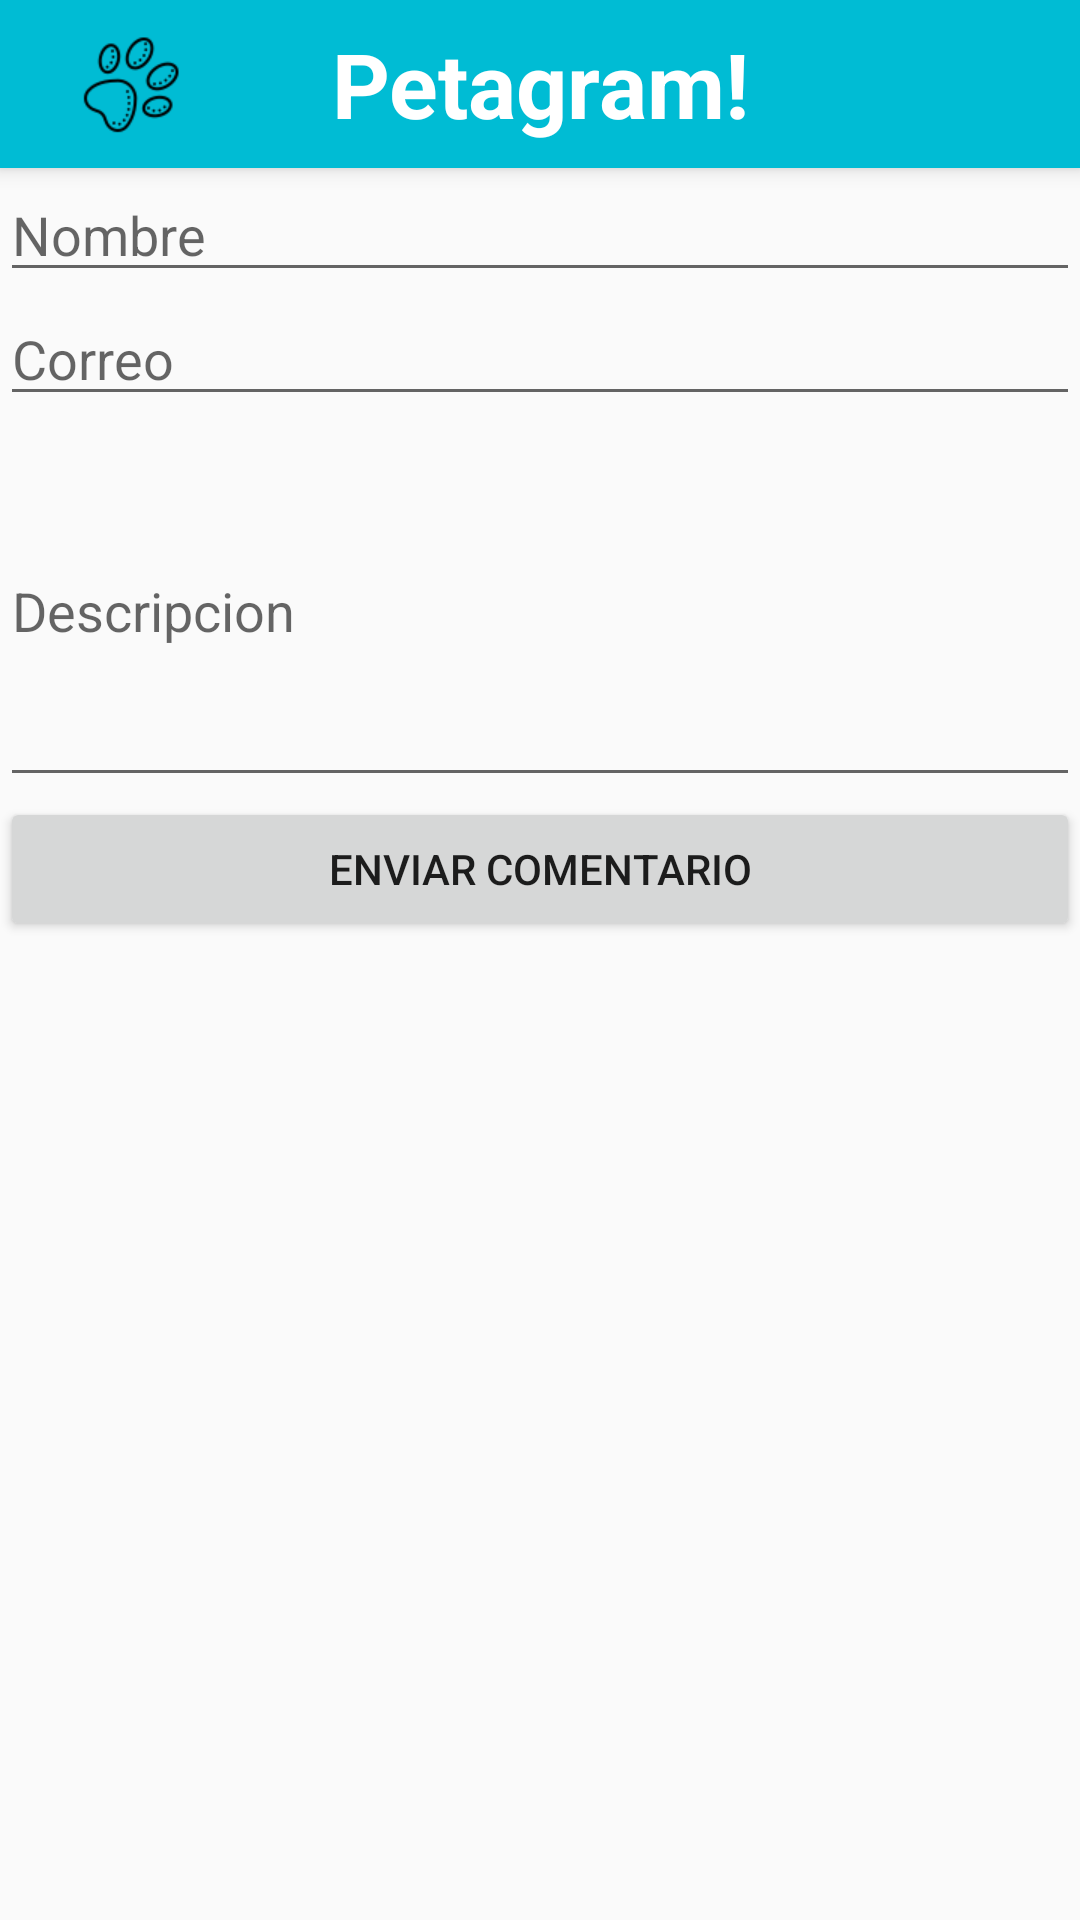

Point at icon controls on the screen. Image size 1080 × 1920, points as (x=x, y=y).
pet commands summon: (x=131, y=85)
